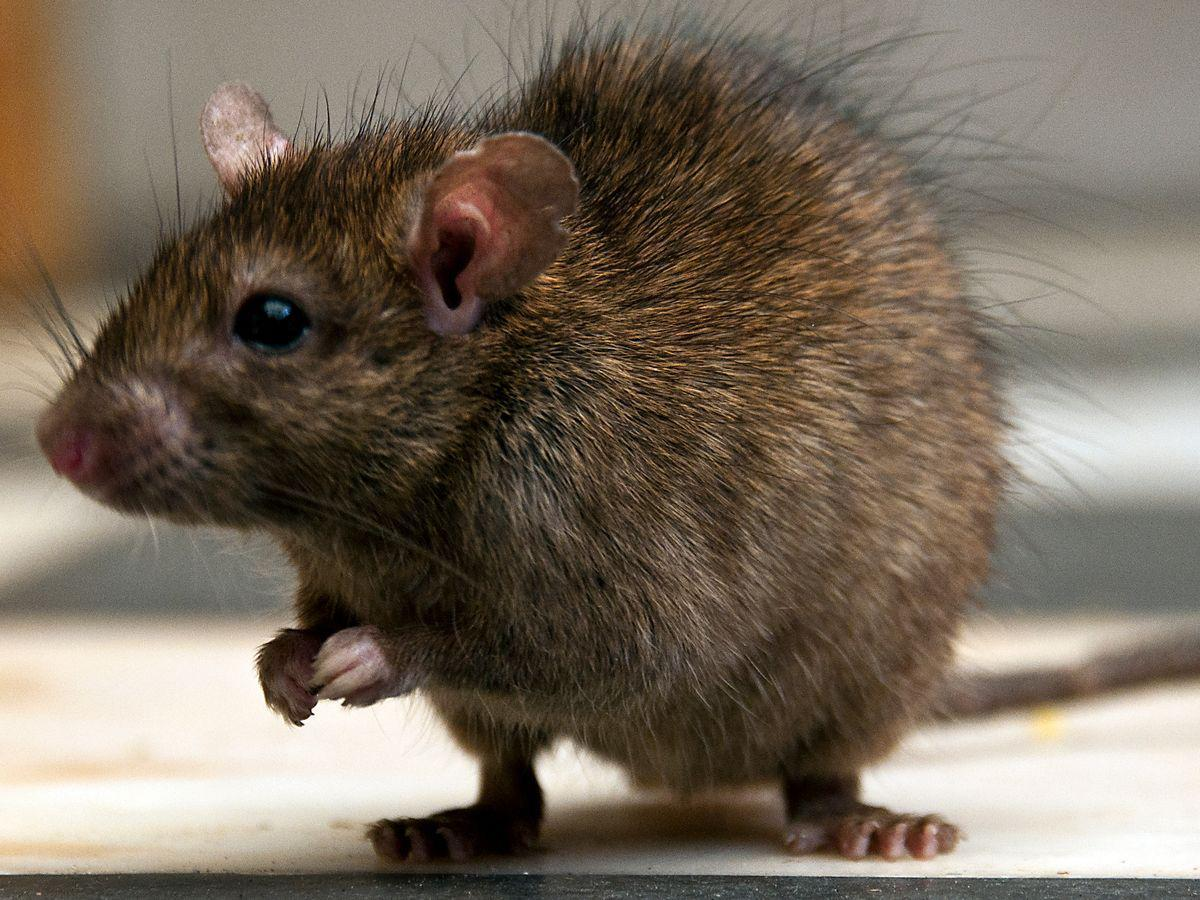rat: (44, 24, 1008, 870)
